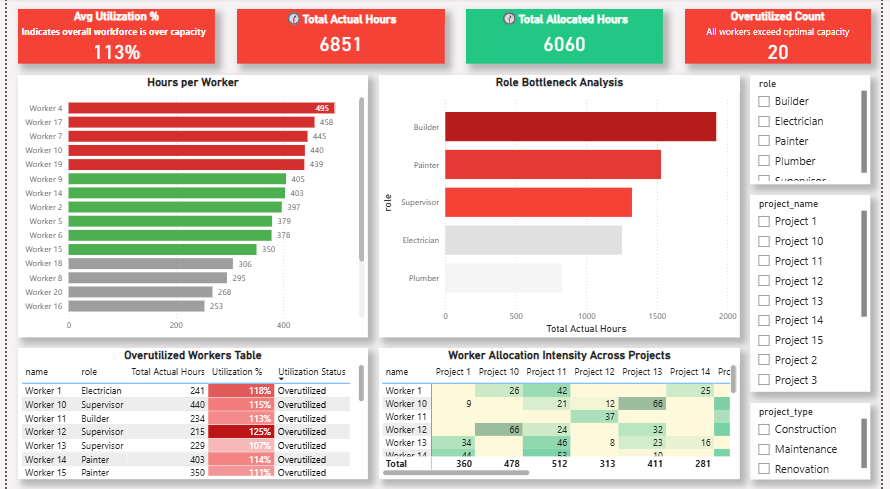

What the dashboard file says about the page in this screenshot:
{"tool":"powerbi","page":{"name":"Resource Utilization Dashboard","canvas":[1280,720],"ordinal":2},"visuals":[{"type":"card","title":"🕜Total Allocated Hours","fields":{"Values":["performance_and_resource_planning resource_allocation.Total Allocated Hours"]},"box":[672,16,288,80],"z":0},{"type":"card","title":"Avg Utilization %","fields":{"Values":["performance_and_resource_planning resource_allocation.Avg Utilization %"]},"box":[16,16,288,80],"z":1000},{"type":"card","title":"🕜Total Actual Hours","fields":{"Values":["performance_and_resource_planning resource_allocation.Total Actual Hours"]},"box":[336,16,304,80],"z":2000},{"type":"clusteredBarChart","title":"Hours per Worker","fields":{"Category":["performance_and_resource_planning resources.name"],"Y":["performance_and_resource_planning resource_allocation.Total Actual Hours"]},"box":[16,112,512,384],"z":3000},{"type":"tableEx","title":"Overutilized Workers Table","fields":{"Values":["performance_and_resource_planning resources.name","performance_and_resource_planning resources.role","performance_and_resource_planning resource_allocation.Total Actual Hours","performance_and_resource_planning resource_allocation.Utilization %","performance_and_resource_planning resource_allocation.Utilization Status"]},"box":[16,512,512,192],"z":4000},{"type":"barChart","title":"Role Bottleneck Analysis","fields":{"Category":["performance_and_resource_planning resources.role"],"Y":["performance_and_resource_planning resource_allocation.Total Actual Hours"]},"box":[544,112,528,384],"z":5000},{"type":"slicer","fields":{"Values":["performance_and_resource_planning resources.role"]},"box":[1088,112,176,160],"z":6000},{"type":"slicer","fields":{"Values":["performance_and_resource_planning projects.project_name"]},"box":[1088,288,176,288],"z":7000},{"type":"slicer","fields":{"Values":["performance_and_resource_planning projects.project_type"]},"box":[1088,592,176,112],"z":8000},{"type":"card","title":"Overutilized Count","fields":{"Values":["performance_and_resource_planning resources.Overutilized Count"]},"box":[992,16,272,80],"z":9000},{"type":"pivotTable","title":"Worker Allocation Intensity Across Projects","fields":{"Rows":["performance_and_resource_planning resources.name"],"Columns":["performance_and_resource_planning projects.project_name"],"Values":["performance_and_resource_planning resource_allocation.Total Actual Hours"]},"box":[544,512,528,192],"z":10000}]}

Visuals, with their boxes in screenshot pixels (x1, y1, x2, y2), scaled from the page's 1280x720 canvas onto the 890x489 screenshot:
"🕜Total Allocated Hours" card: bbox=(467, 11, 668, 65)
"Avg Utilization %" card: bbox=(11, 11, 211, 65)
"🕜Total Actual Hours" card: bbox=(234, 11, 445, 65)
"Hours per Worker" clusteredBarChart: bbox=(11, 76, 367, 337)
"Overutilized Workers Table" tableEx: bbox=(11, 348, 367, 478)
"Role Bottleneck Analysis" barChart: bbox=(378, 76, 745, 337)
slicer - performance_and_resource_planning resources.role: bbox=(756, 76, 879, 185)
slicer - performance_and_resource_planning projects.project_name: bbox=(756, 196, 879, 391)
slicer - performance_and_resource_planning projects.project_type: bbox=(756, 402, 879, 478)
"Overutilized Count" card: bbox=(690, 11, 879, 65)
"Worker Allocation Intensity Across Projects" pivotTable: bbox=(378, 348, 745, 478)
